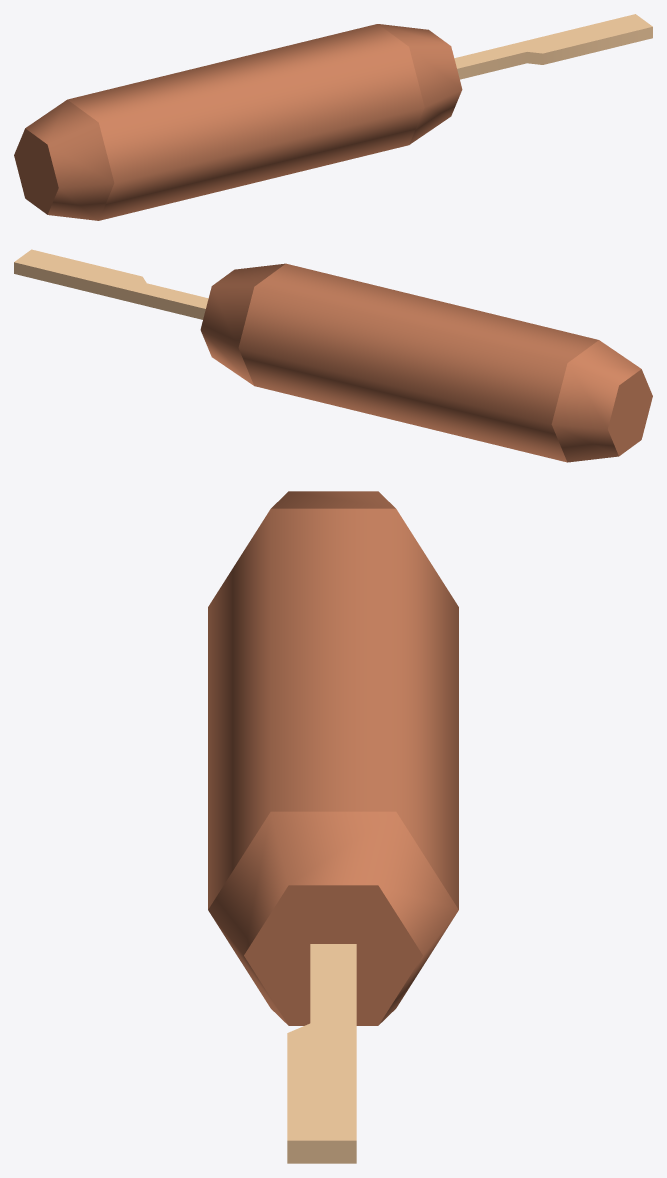
Rendered from Corn Dog.glb.
3 renders of one model, top to bottom at view 1: azimuth 30°, elevation 25°; view 2: azimuth 150°, elevation 25°; view 3: azimuth 270°, elevation 25°, orthographic. The views are drawn at different scales.
Parts seen in each view (by area): view 1: dog, cornDog; view 2: dog, cornDog; view 3: dog, cornDog.
Boxes of the visible parts, x1,y1,x2,y2 form: dog: (14, 24, 462, 220); cornDog: (454, 14, 652, 79); dog: (200, 263, 652, 462); cornDog: (14, 249, 208, 319); dog: (208, 491, 458, 1025); cornDog: (287, 944, 356, 1163).
Size of the model in its own units: 0.6044 by 0.094 by 0.1085.
